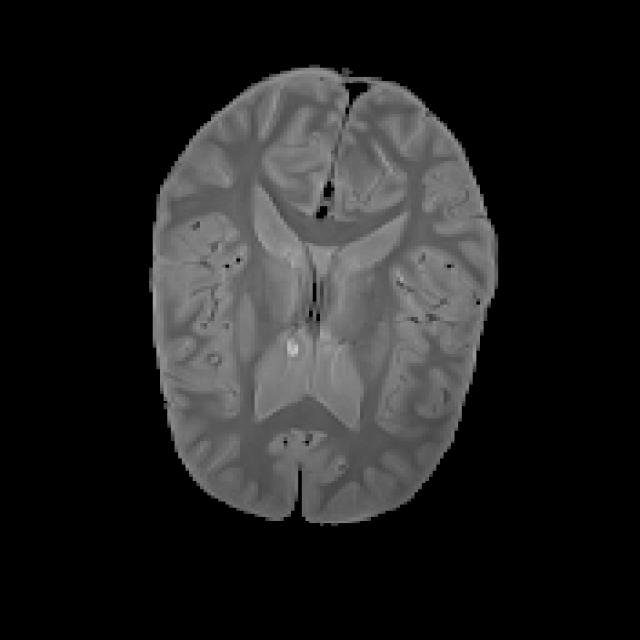parkinson: (146, 62, 498, 523)
